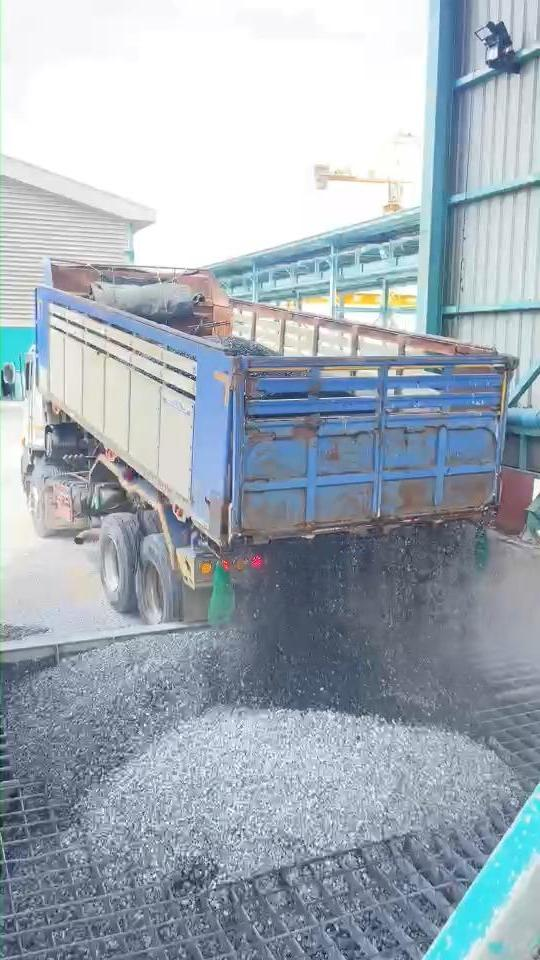gravel: (82, 707, 518, 881), (245, 523, 480, 722), (5, 629, 245, 802), (217, 336, 276, 356), (1, 623, 48, 640)
